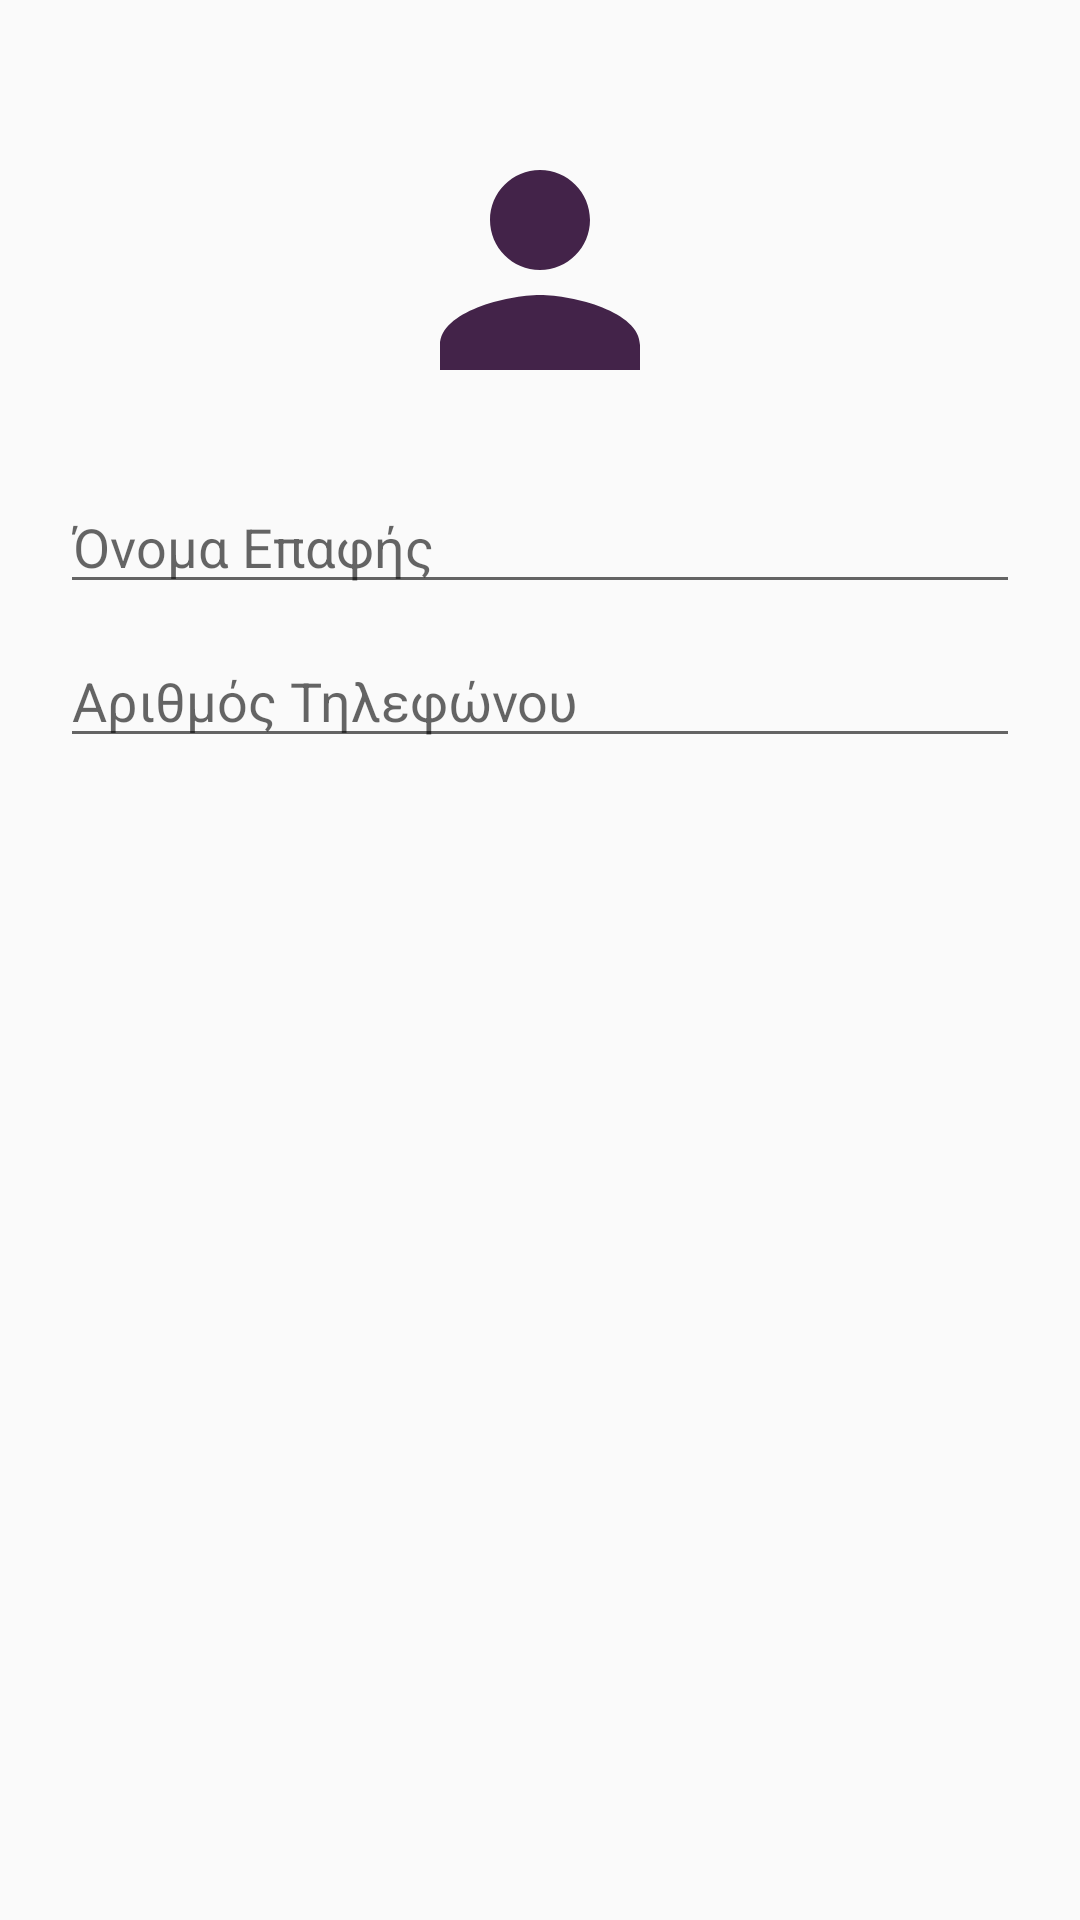

Icons on this 1080px x 1920px Android screen, each with the point to tap as [x,y]:
Επιλογή Εικόνας: [540,270]
